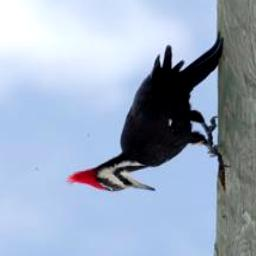Woodpecker: (66, 33, 230, 194)
